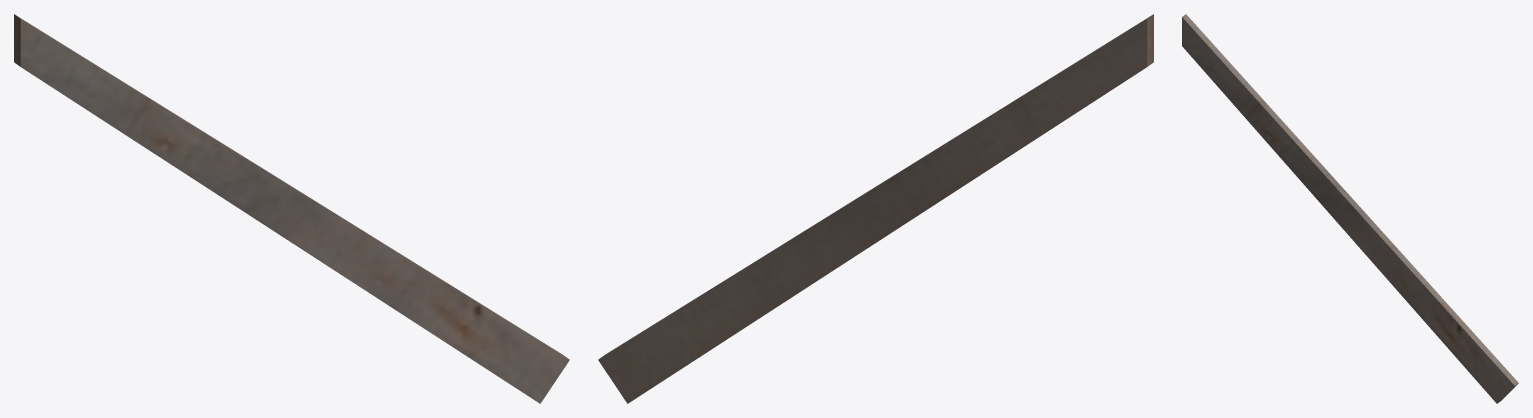
Rendered from Roofconnector.fbx.
3 renders of one model, left to right at view 1: azimuth 30°, elevation 25°; view 2: azimuth 150°, elevation 25°; view 3: azimuth 330°, elevation 25°, orthographic. The views are drawn at different scales.
Parts seen in each view (by area): view 1: RoofConnector; view 2: RoofConnector; view 3: RoofConnector.
Boxes of the visible parts, x1=… form: RoofConnector: x1=14, y1=14, x2=569, y2=403; RoofConnector: x1=598, y1=14, x2=1153, y2=403; RoofConnector: x1=1182, y1=14, x2=1518, y2=403.
Size of the model in its own units: 477 by 425 by 10.
Materials: 1 (1 with a texture image).
